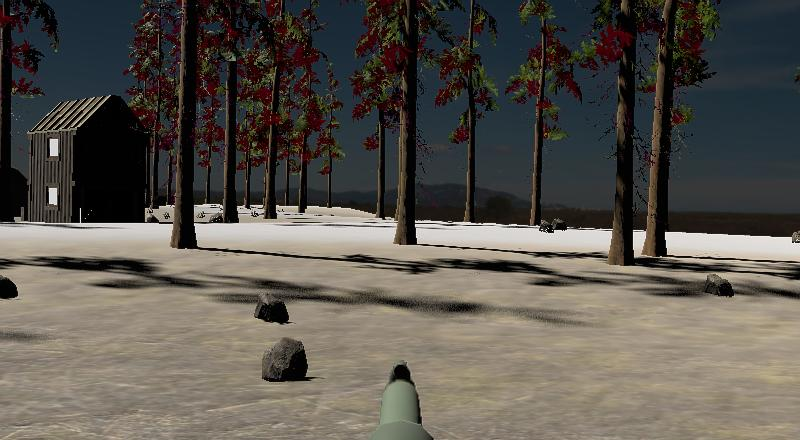House: (28, 94, 155, 222)
